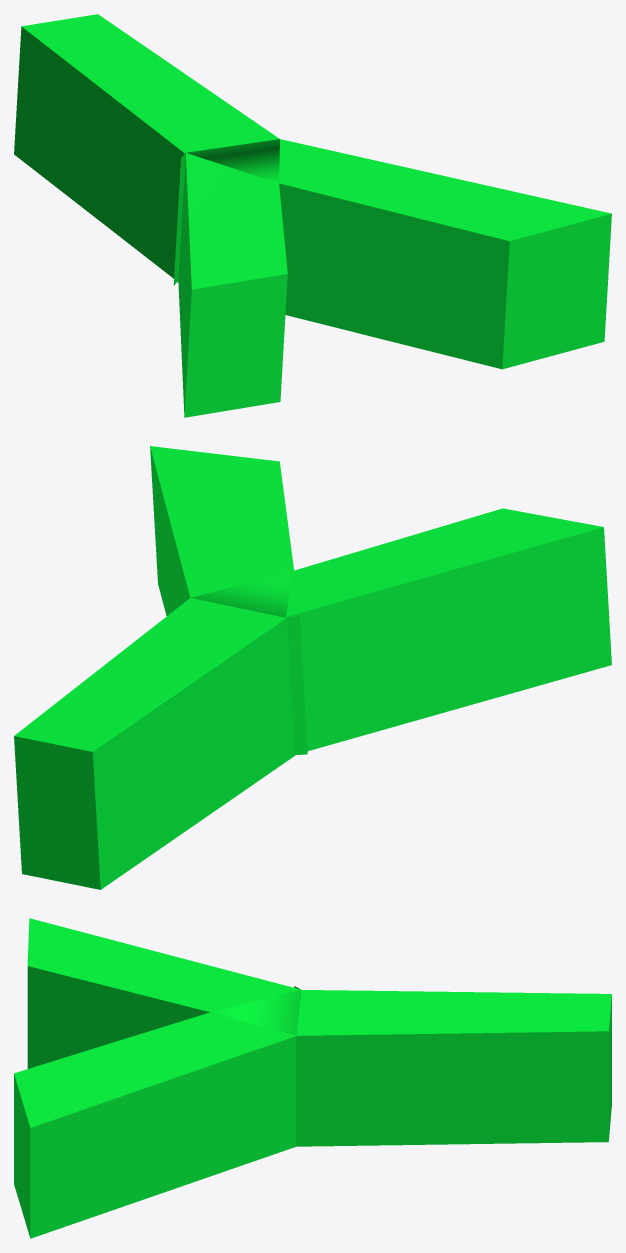
The model's file is LetterY.obj.
The picture shows the model from 3 angles, top to bottom: view 1: azimuth 30°, elevation 25°; view 2: azimuth 150°, elevation 25°; view 3: azimuth 270°, elevation 25°; orthographic projection. The views are drawn at different scales.
Parts seen in each view (by area): view 1: LetterY; view 2: LetterY; view 3: LetterY.
Boxes of the visible parts, left/top/right/bottom form: LetterY: left=14, top=14, right=611, bottom=417; LetterY: left=14, top=446, right=611, bottom=889; LetterY: left=14, top=918, right=611, bottom=1238.
Size of the model in its own units: 3.54 by 1.21 by 4.74.
